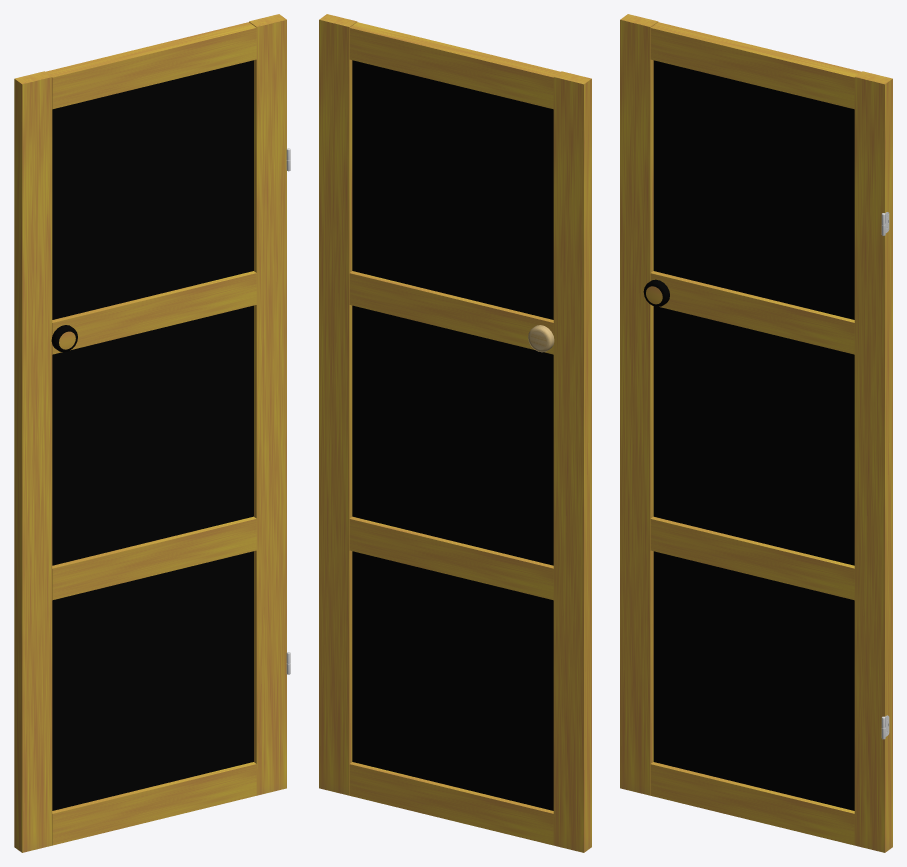
File: KuuraSaunaOvi.FBX
3 views of the same model, side by side, from view 1: azimuth 30°, elevation 25°; view 2: azimuth 150°, elevation 25°; view 3: azimuth 330°, elevation 25° (orthographic).
Parts seen in each view (by area): view 1: SaunaOvi; view 2: SaunaOvi; view 3: SaunaOvi.
Part boxes in pixels (x1,y1,x2,y2): SaunaOvi: (14,14,286,852); SaunaOvi: (319,14,591,852); SaunaOvi: (620,14,892,852).
Bounding box in the file's own units: 78.41 × 216 × 9.68.
4 materials, 3 textured.
